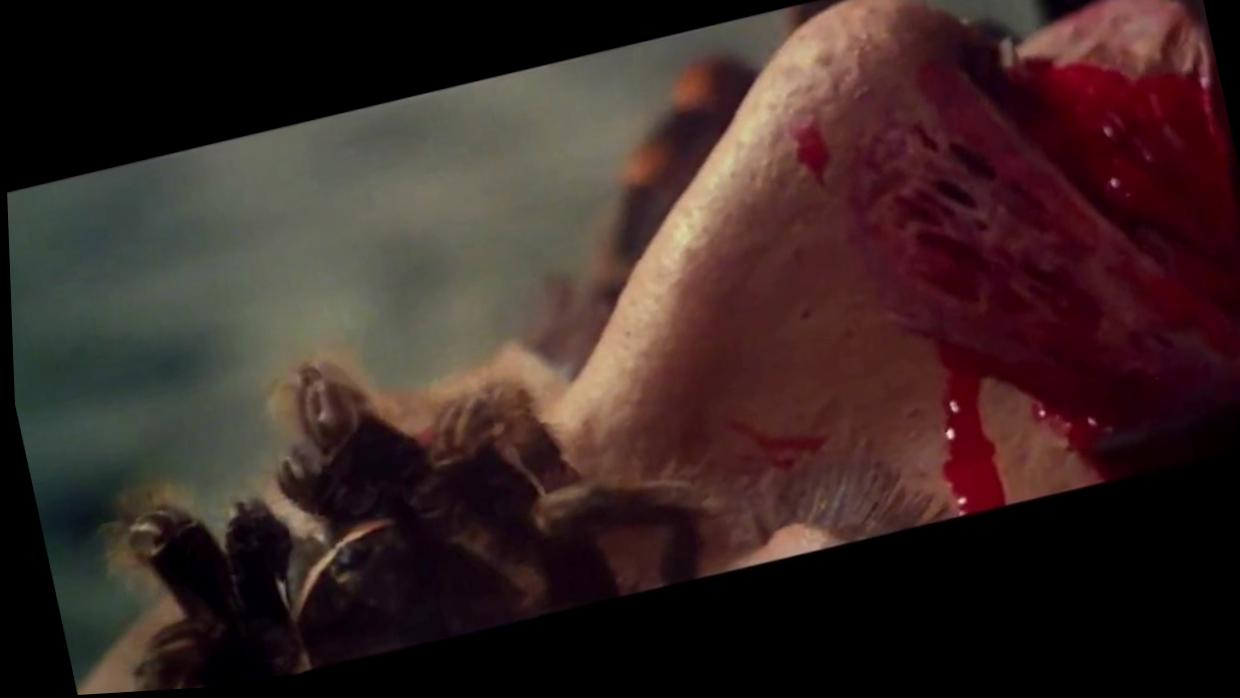Fire: (844, 6, 1240, 525)
